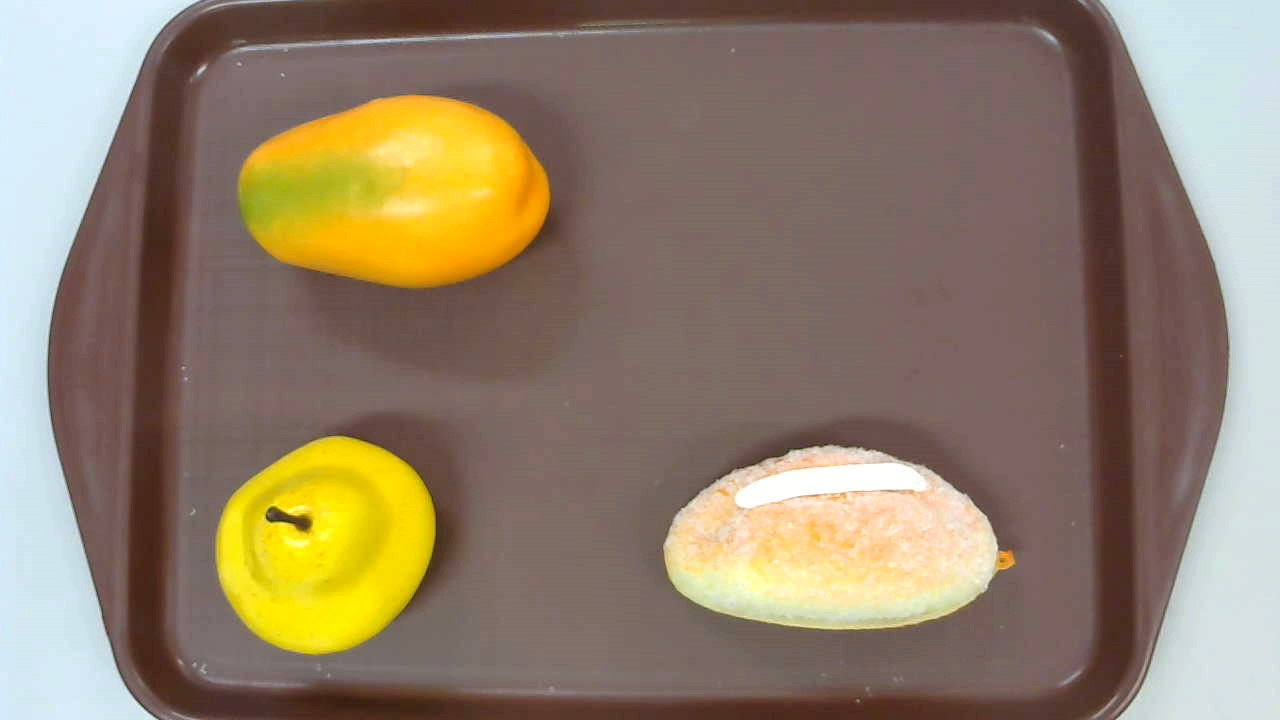coconut: (663, 441, 1016, 629)
papya: (235, 95, 551, 291)
yellow pear: (214, 436, 435, 654)
